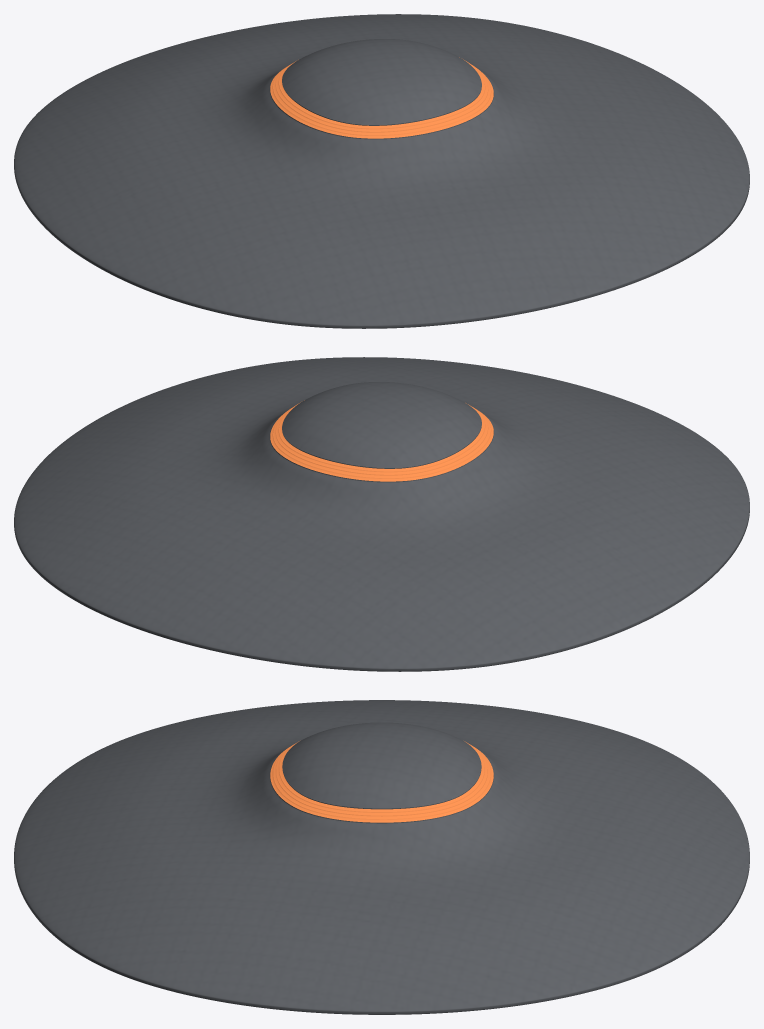
File: ufo.glb
3 renders of one model, top to bottom at view 1: azimuth 30°, elevation 25°; view 2: azimuth 150°, elevation 25°; view 3: azimuth 270°, elevation 25°, orthographic. The views are drawn at different scales.
Visible parts, largest first — view 1: UFO; view 2: UFO; view 3: UFO.
Part boxes in pixels (x1,y1,x2,y2): UFO: (14, 14, 749, 328); UFO: (14, 357, 749, 671); UFO: (14, 700, 749, 1014).
Bounding box in the file's own units: 9.37 × 2.49 × 9.37.
3 materials, 3 textured.
